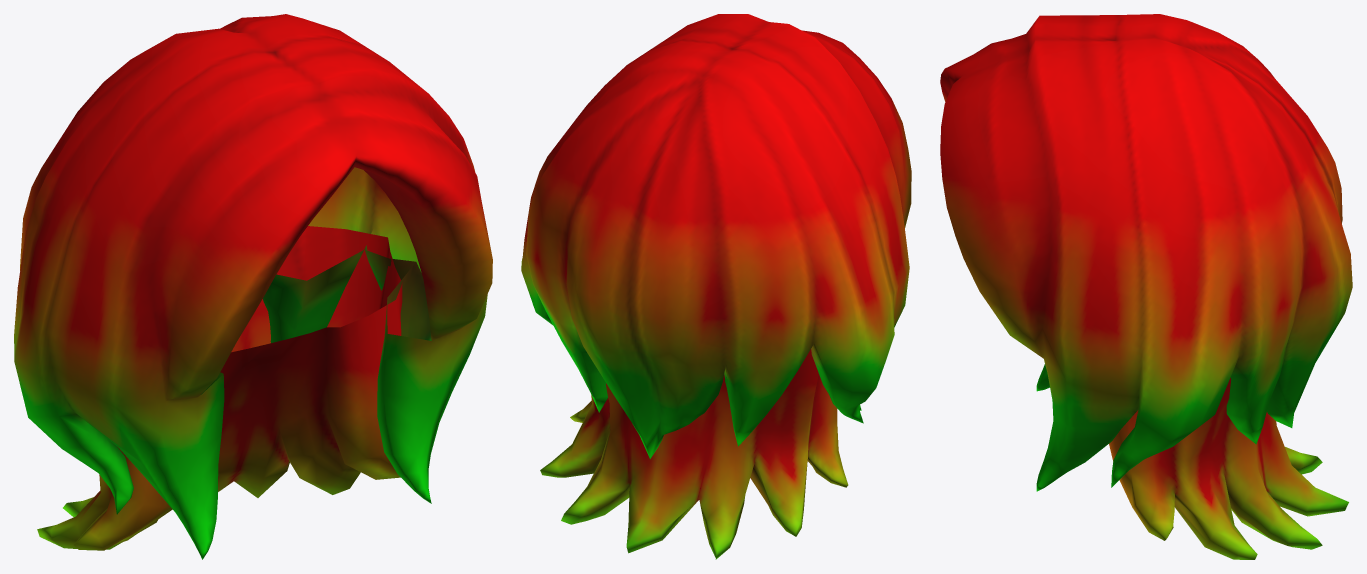
Rendered from HairBack_FlowerBob.obj.
3 renders of one model, left to right at view 1: azimuth 30°, elevation 25°; view 2: azimuth 150°, elevation 25°; view 3: azimuth 270°, elevation 25°, orthographic. The views are drawn at different scales.
Visible parts, largest first — view 1: HairBack_FlowerBob_0; view 2: HairBack_FlowerBob_0; view 3: HairBack_FlowerBob_0.
Part boxes in pixels (left/top/right/bottom): HairBack_FlowerBob_0: left=14, top=14, right=492, bottom=559; HairBack_FlowerBob_0: left=521, top=14, right=911, bottom=559; HairBack_FlowerBob_0: left=940, top=14, right=1352, bottom=559.
Size of the model in its own units: 0.2664 by 0.3129 by 0.2422.
1 material, 1 textured.
